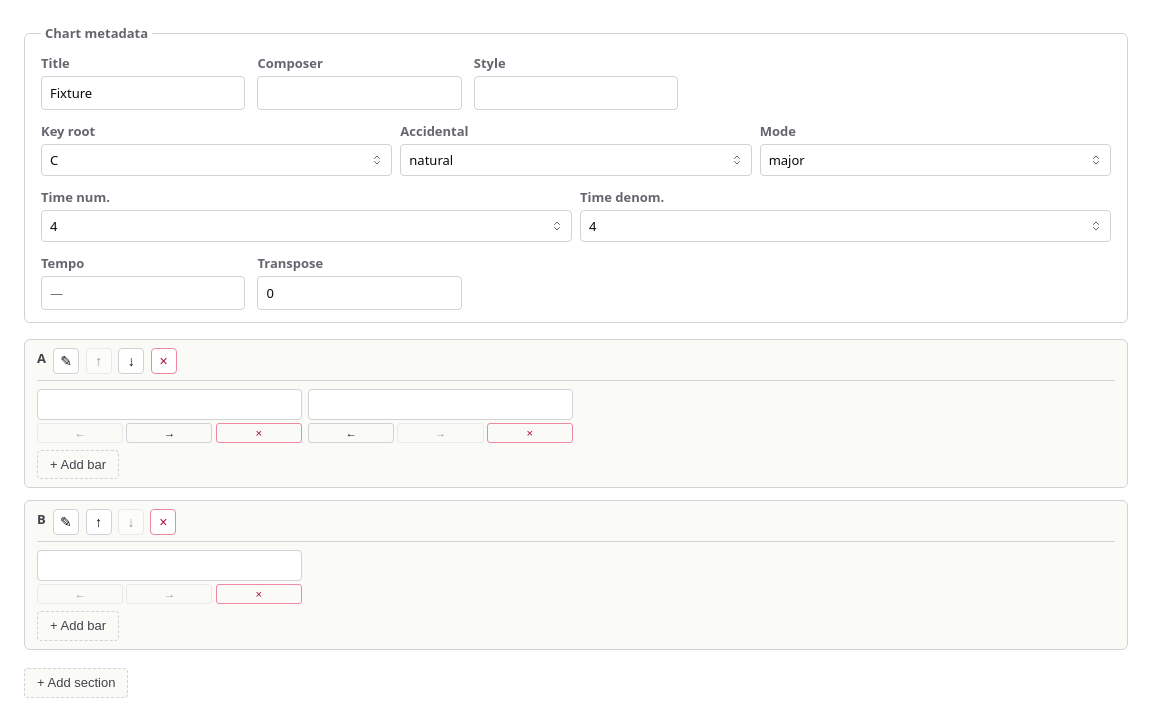
Test case: <IrealBarGrid> structural — active-bar reconciliation › deleting every section leaves the grid with no Tab stops
This screenshot has width=1152, height=714.
Step 1. Click the button named "Delete section" → click(164, 361), box [151, 348, 177, 374]
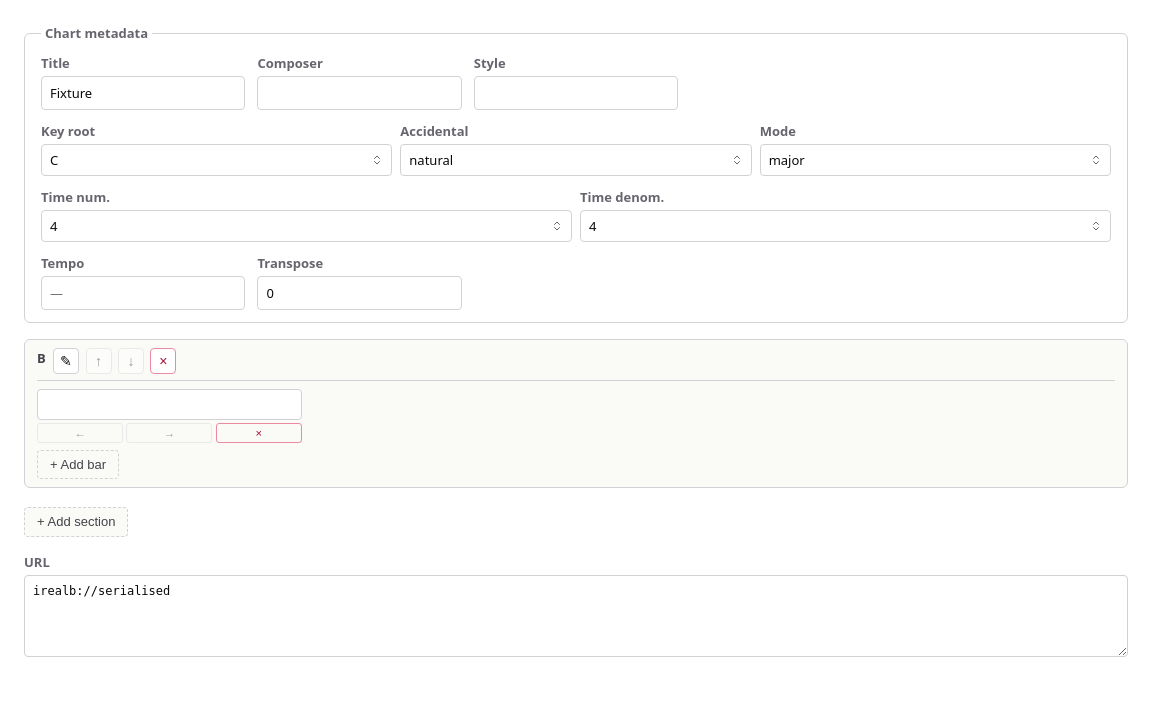
Step 2. Click the button named "Delete section" → click(163, 361), box [150, 348, 176, 374]
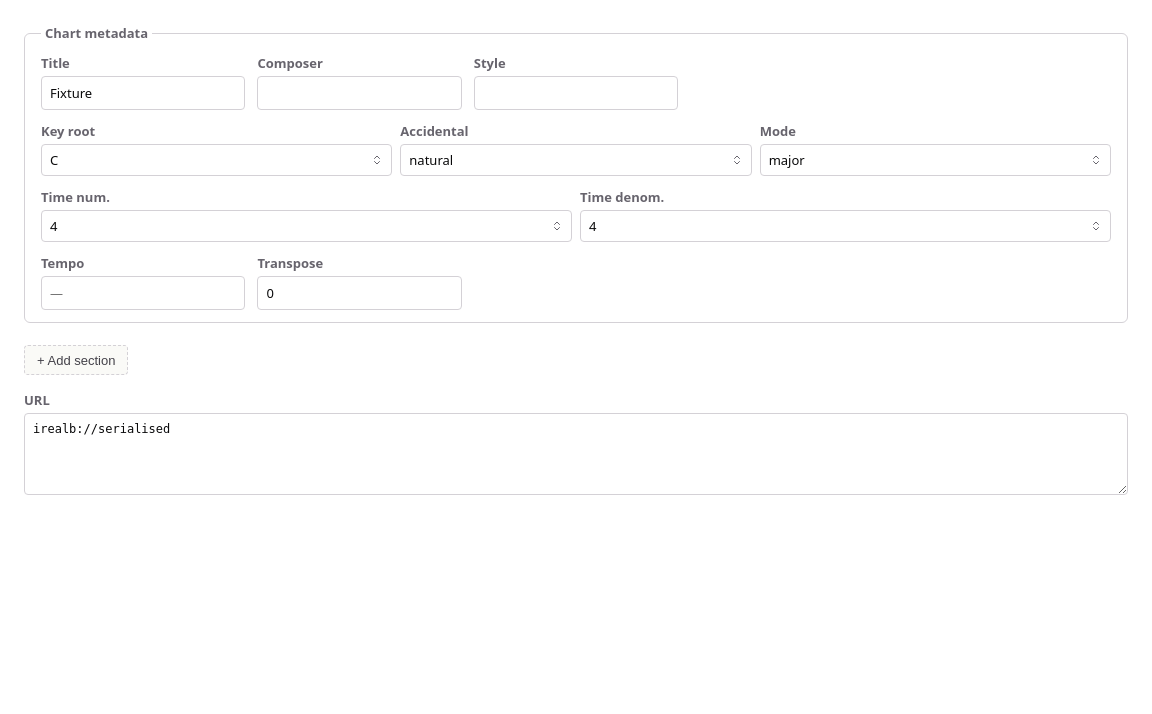
Now no buttons with class "chordsketch-ireal-bar-grid__bar" are shown
